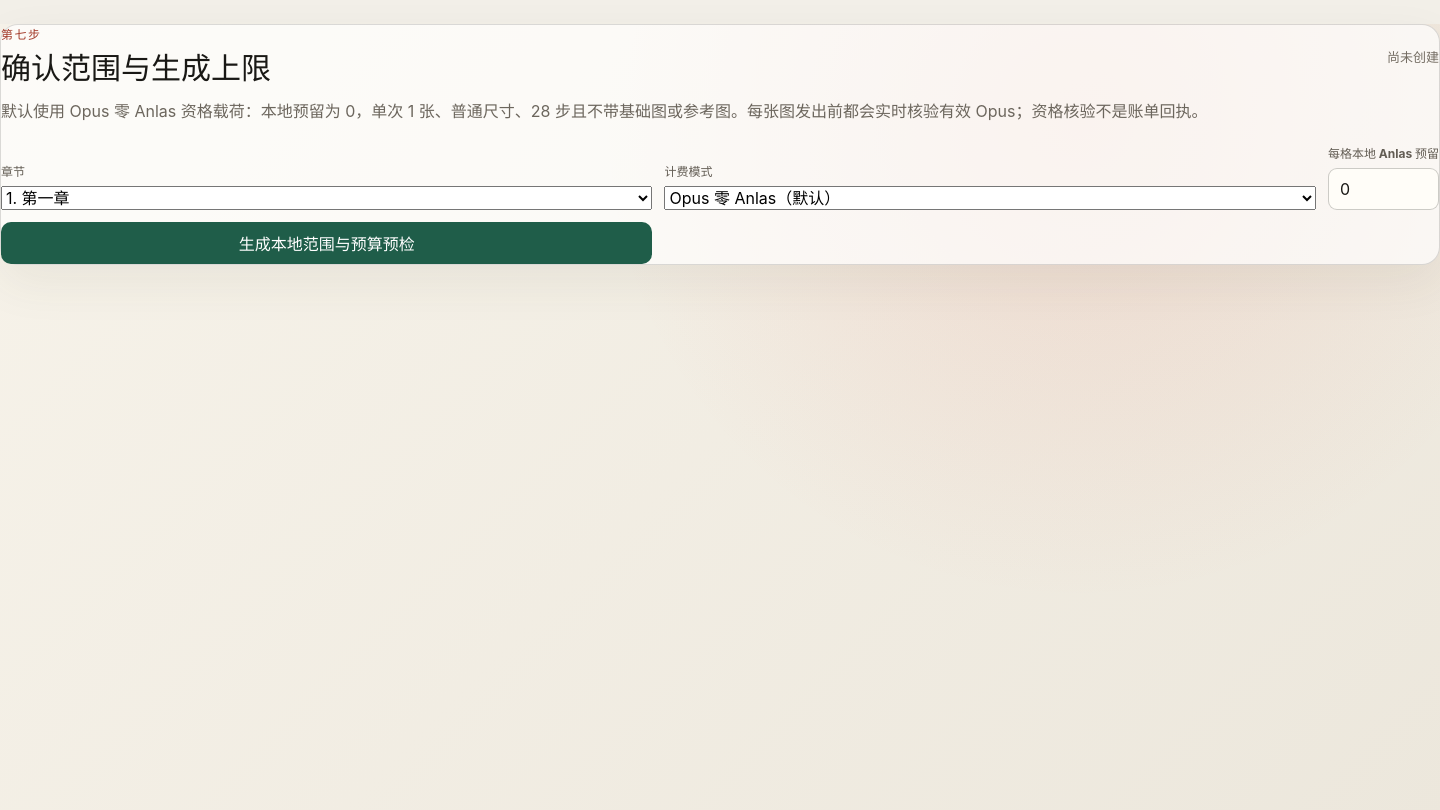
Test case: keeps standard billing available only through an explicit mode choice
This screenshot has width=1440, height=810.
Expected: the text "默认使用 Opus 零 Anlas" is shown, 1,101 -> 1207,121
Select "标准计费（允许参考图）" in the dropdown labelled "计费模式": (990, 198) 664,186 -> 1316,210
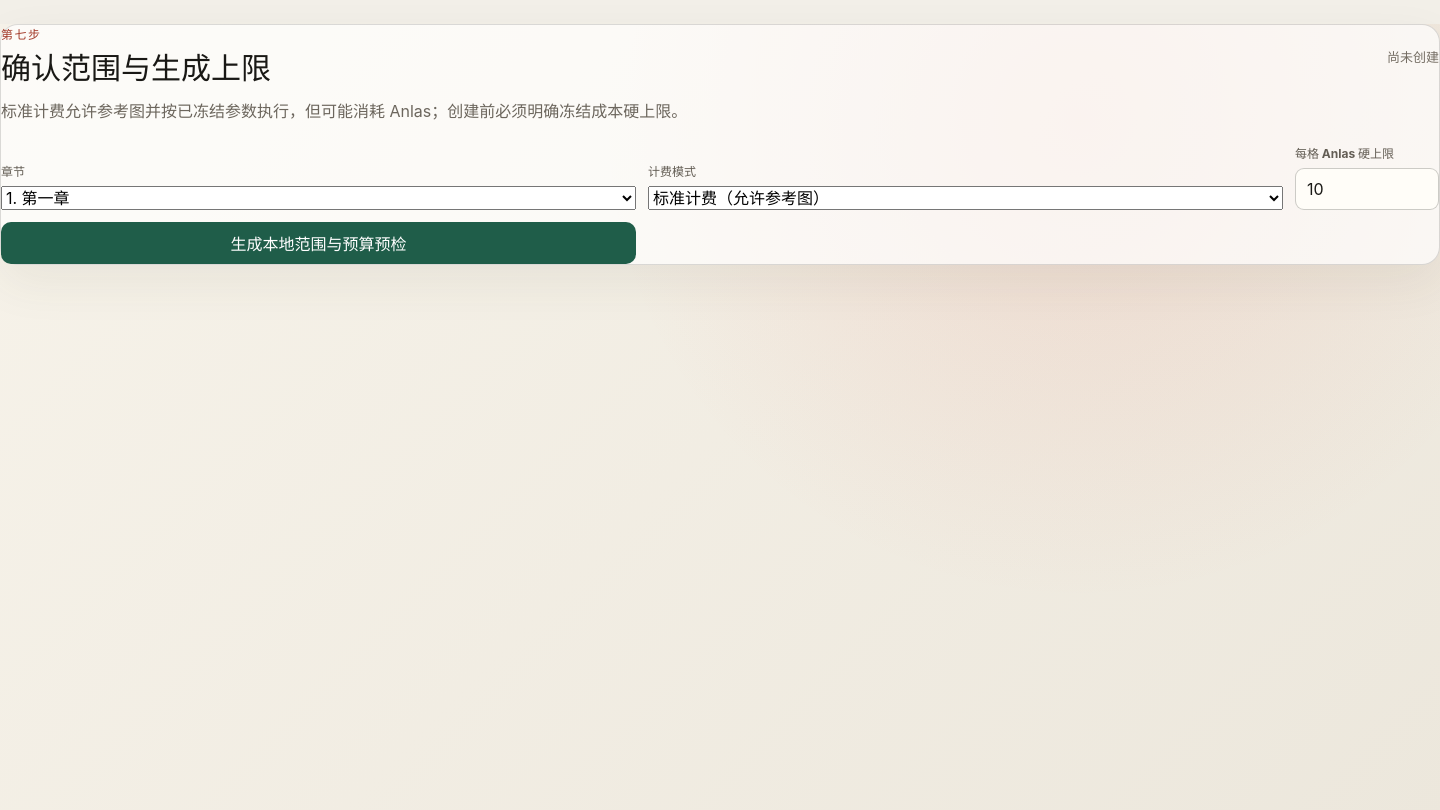
Result: the number field labelled "每格 Anlas 硬上限" holds "10" at 1295,168 -> 1439,210
Click the button "生成本地范围与预算预检": (318, 243) 1,222 -> 636,264
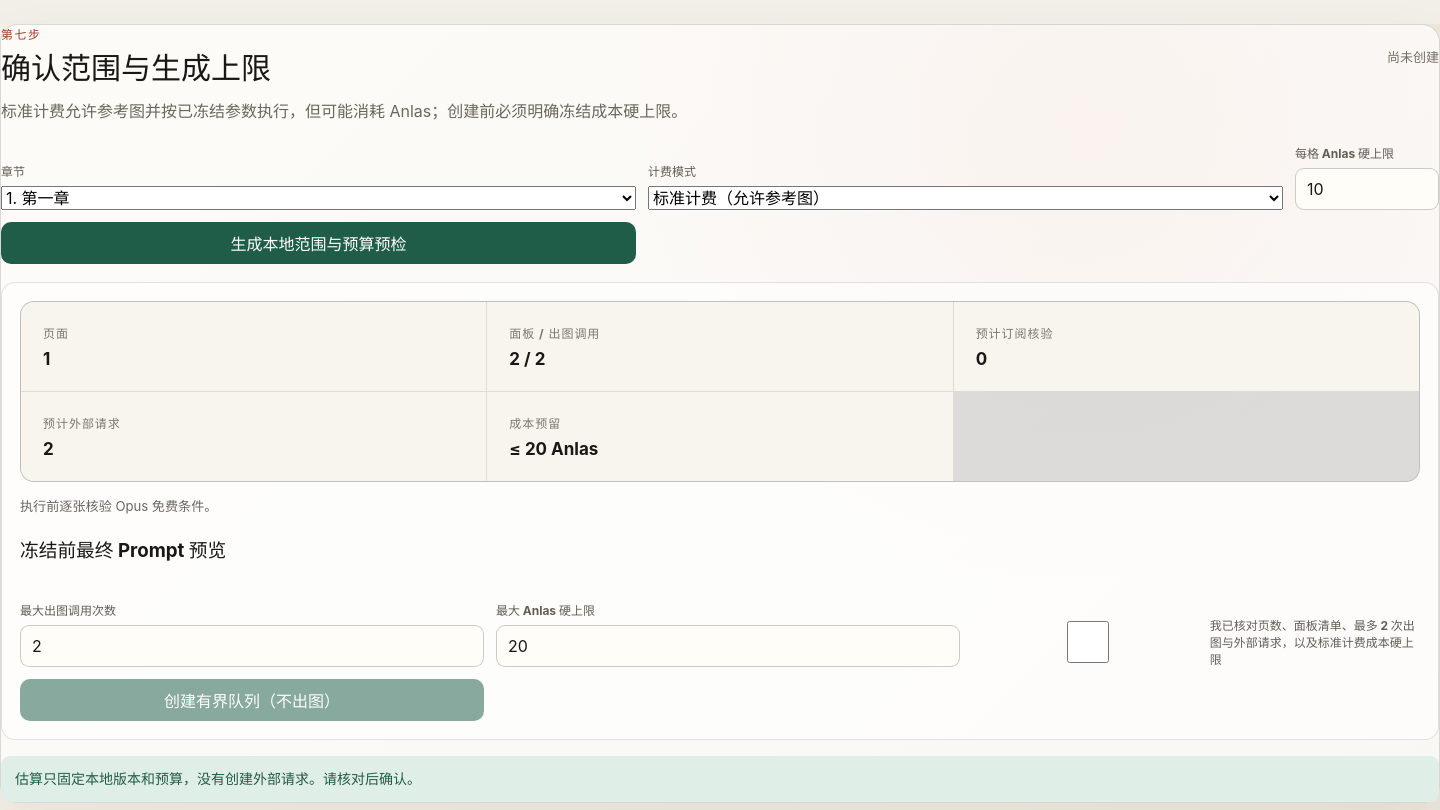
Result: the text "≤ 20 Anlas" is shown at 509,439 -> 598,459
Click the checkbox labelled "我已核对页数、面板清单、最多 2 次出图与外部请求，以及标准计费成本硬上限": (1088, 642) 976,621 -> 1200,663
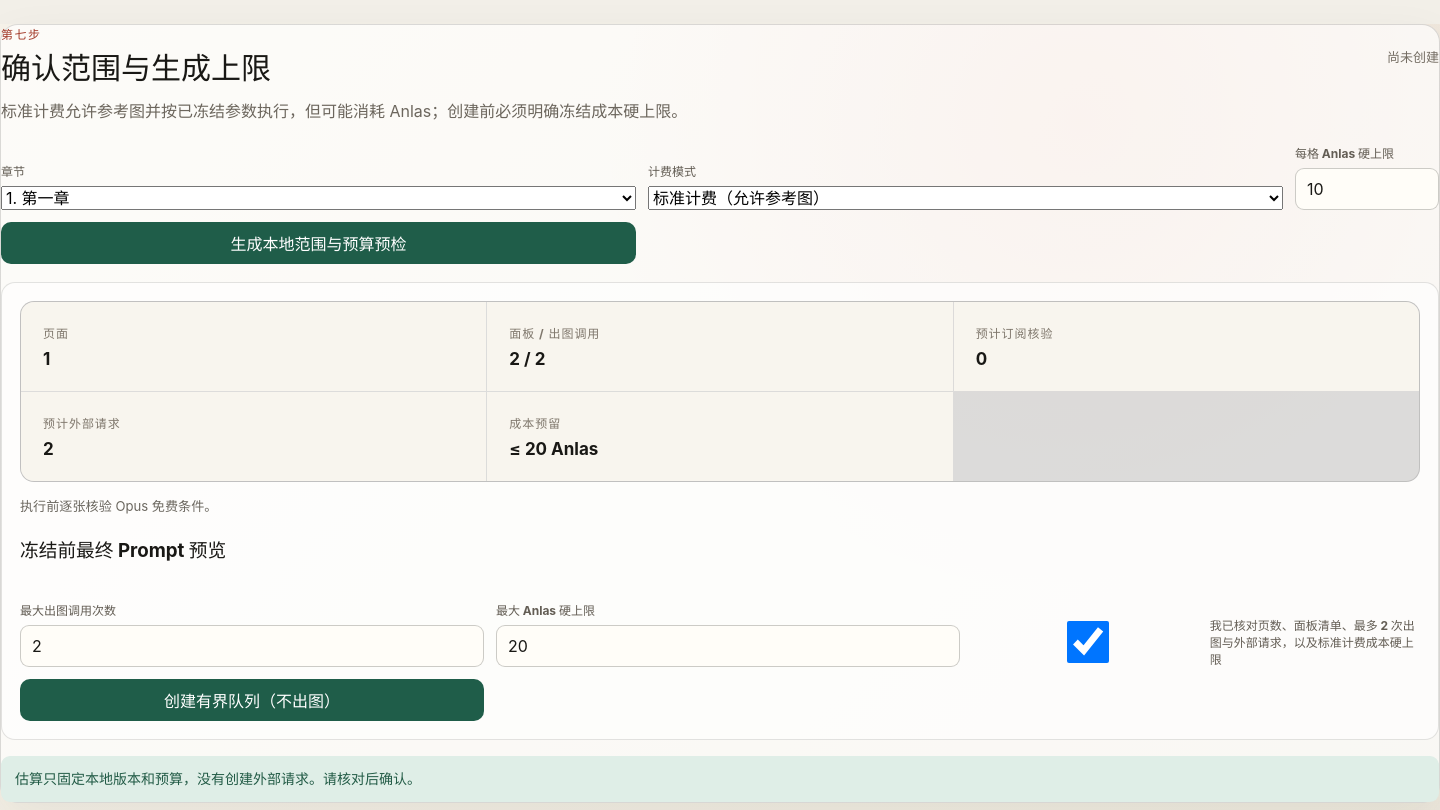
Result: the button "创建有界队列（不出图）" is enabled at 20,679 -> 484,721
Replace the text in the number field labelled "最大 Anlas 硬上限" with "30": (728, 646) 496,625 -> 960,667
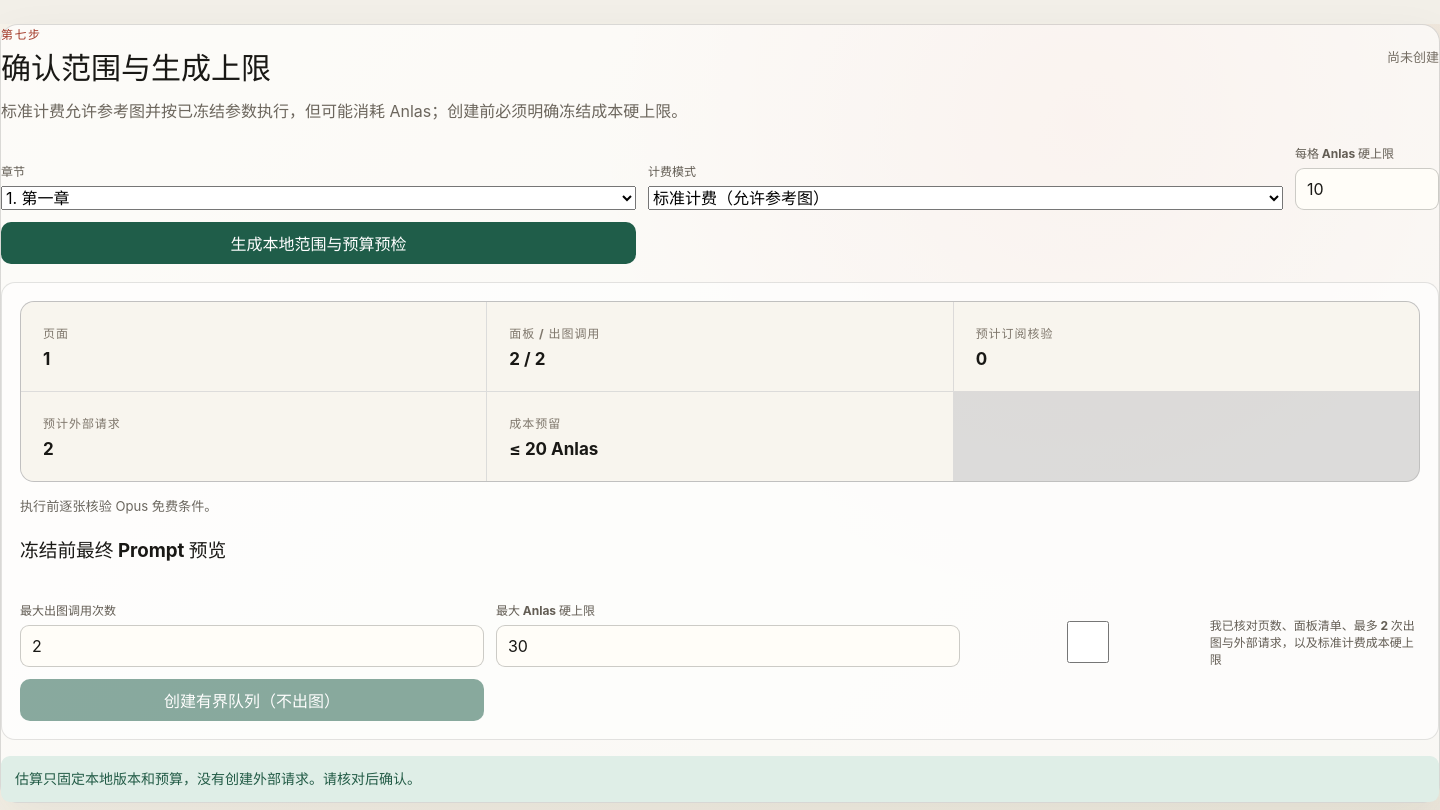
Result: the checkbox is not checked at 976,621 -> 1200,663
Result: the button "创建有界队列（不出图）" is disabled at 20,679 -> 484,721
